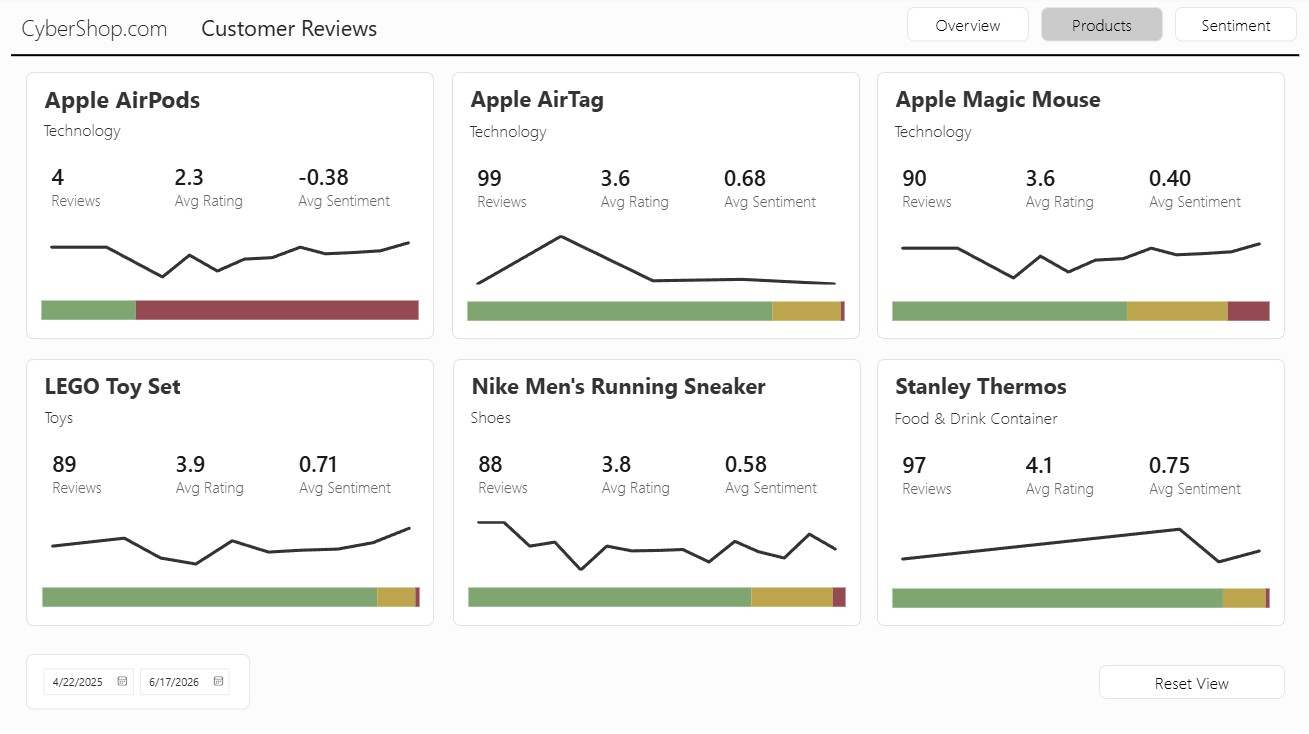

This screenshot's page, from the dashboard's own definition file:
{"tool":"powerbi","page":{"name":"Products","canvas":[1280,720],"ordinal":1},"visuals":[{"type":"shape","box":[13.6,46.2,1253.2,21.8],"z":0},{"type":"textbox","box":[18.5,10.7,485.3,46.7],"z":1000},{"type":"shape","title":"ttt","box":[1145.3,10.9,118.8,33.6],"z":2000},{"type":"shape","title":"ttt","box":[1015.6,10.9,118.8,33.6],"z":3000},{"type":"shape","title":"ttt","box":[885,10.9,118.8,33.6],"z":4000},{"type":"shape","title":"ttt","box":[855.9,73.9,396.8,259.7],"z":5000},{"type":"shape","title":"ttt","box":[442.6,73.9,396.8,259.7],"z":6000},{"type":"shape","title":"ttt","box":[28.2,73.9,396.8,259.7],"z":7000},{"type":"multiRowCard","title":"Average Rating","fields":{"Values":["reviews_analyzed.category"]},"box":[39.9,113.8,183.8,36],"z":8000},{"type":"multiRowCard","title":"Average Rating","fields":{"Values":["CountNonNull(reviews_analyzed.id)","Avg(reviews_analyzed.rating)","Avg(reviews_analyzed.sentiment)"]},"box":[47.7,155.6,385.2,68.1],"z":9000},{"type":"shape","title":"ttt","box":[28.2,353.1,396.8,259.7],"z":10000},{"type":"shape","title":"ttt","box":[443.5,353.1,396.8,259.7],"z":11000},{"type":"shape","title":"ttt","box":[855.9,353.1,396.8,259.7],"z":12000},{"type":"hundredPercentStackedBarChart","title":"Overall Sentiment Mix","fields":{"Series":["reviews_analyzed.sentiment_category"],"Y":["CountNonNull(reviews_analyzed.id)"]},"box":[28.2,269.4,396.8,64.2],"z":13000},{"type":"lineChart","title":"Overall Sentiment Mix","fields":{"Y":["Avg(reviews_analyzed.rating)"],"Category":["reviews_analyzed.date.Variation.Date Hierarchy.Year","reviews_analyzed.date.Variation.Date Hierarchy.Month"]},"box":[28.2,223.7,396.8,56.4],"z":14000},{"type":"multiRowCard","title":"Average Rating","fields":{"Values":["reviews_analyzed.category"]},"box":[454.5,115,183.8,36],"z":15000},{"type":"multiRowCard","title":"Average Rating","fields":{"Values":["CountNonNull(reviews_analyzed.id)","Avg(reviews_analyzed.rating)","Avg(reviews_analyzed.sentiment)"]},"box":[462.3,156.9,385.2,68.1],"z":16000},{"type":"hundredPercentStackedBarChart","title":"Overall Sentiment Mix","fields":{"Series":["reviews_analyzed.sentiment_category"],"Y":["CountNonNull(reviews_analyzed.id)"]},"box":[442.8,270.7,396.8,64.2],"z":17000},{"type":"lineChart","title":"Overall Sentiment Mix","fields":{"Y":["Avg(reviews_analyzed.rating)"],"Category":["reviews_analyzed.date.Variation.Date Hierarchy.Year","reviews_analyzed.date.Variation.Date Hierarchy.Month"]},"box":[442.8,225,396.8,56.4],"z":18000},{"type":"multiRowCard","title":"Average Rating","fields":{"Values":["reviews_analyzed.category"]},"box":[867.9,115,183.8,36],"z":19000},{"type":"multiRowCard","title":"Average Rating","fields":{"Values":["CountNonNull(reviews_analyzed.id)","Avg(reviews_analyzed.rating)","Avg(reviews_analyzed.sentiment)"]},"box":[875.7,156.9,385.2,68.1],"z":20000},{"type":"hundredPercentStackedBarChart","title":"Overall Sentiment Mix","fields":{"Series":["reviews_analyzed.sentiment_category"],"Y":["CountNonNull(reviews_analyzed.id)"]},"box":[856.2,270.7,396.8,64.2],"z":21000},{"type":"lineChart","title":"Overall Sentiment Mix","fields":{"Y":["Avg(reviews_analyzed.rating)"],"Category":["reviews_analyzed.date.Variation.Date Hierarchy.Year","reviews_analyzed.date.Variation.Date Hierarchy.Month"]},"box":[856.2,225,396.8,56.4],"z":22000},{"type":"multiRowCard","title":"Average Rating","fields":{"Values":["reviews_analyzed.category"]},"box":[41.1,393.2,183.8,36],"z":23000},{"type":"multiRowCard","title":"Average Rating","fields":{"Values":["CountNonNull(reviews_analyzed.id)","Avg(reviews_analyzed.rating)","Avg(reviews_analyzed.sentiment)"]},"box":[48.9,435.1,385.2,68.1],"z":24000},{"type":"hundredPercentStackedBarChart","title":"Overall Sentiment Mix","fields":{"Series":["reviews_analyzed.sentiment_category"],"Y":["CountNonNull(reviews_analyzed.id)"]},"box":[29.5,548.9,396.8,64.2],"z":25000},{"type":"lineChart","title":"Overall Sentiment Mix","fields":{"Y":["Avg(reviews_analyzed.rating)"],"Category":["reviews_analyzed.date.Variation.Date Hierarchy.Year","reviews_analyzed.date.Variation.Date Hierarchy.Month"]},"box":[29.5,503.2,396.8,56.4],"z":26000},{"type":"multiRowCard","title":"Average Rating","fields":{"Values":["reviews_analyzed.category"]},"box":[455.5,393.2,183.8,36],"z":27000},{"type":"multiRowCard","title":"Average Rating","fields":{"Values":["CountNonNull(reviews_analyzed.id)","Avg(reviews_analyzed.rating)","Avg(reviews_analyzed.sentiment)"]},"box":[463.3,435.1,385.2,68.1],"z":28000},{"type":"hundredPercentStackedBarChart","title":"Overall Sentiment Mix","fields":{"Series":["reviews_analyzed.sentiment_category"],"Y":["CountNonNull(reviews_analyzed.id)"]},"box":[443.8,548.9,396.8,64.2],"z":29000},{"type":"lineChart","title":"Overall Sentiment Mix","fields":{"Y":["Avg(reviews_analyzed.rating)"],"Category":["reviews_analyzed.date.Variation.Date Hierarchy.Year","reviews_analyzed.date.Variation.Date Hierarchy.Month"]},"box":[443.8,503.2,396.8,56.4],"z":30000},{"type":"multiRowCard","title":"Average Rating","fields":{"Values":["reviews_analyzed.category"]},"box":[867.9,394.2,183.8,36],"z":31000},{"type":"multiRowCard","title":"Average Rating","fields":{"Values":["CountNonNull(reviews_analyzed.id)","Avg(reviews_analyzed.rating)","Avg(reviews_analyzed.sentiment)"]},"box":[875.7,436,385.2,68.1],"z":32000},{"type":"hundredPercentStackedBarChart","title":"Overall Sentiment Mix","fields":{"Series":["reviews_analyzed.sentiment_category"],"Y":["CountNonNull(reviews_analyzed.id)"]},"box":[856.2,549.8,396.8,64.2],"z":33000},{"type":"lineChart","title":"Overall Sentiment Mix","fields":{"Y":["Avg(reviews_analyzed.rating)"],"Category":["reviews_analyzed.date.Variation.Date Hierarchy.Year","reviews_analyzed.date.Variation.Date Hierarchy.Month"]},"box":[856.2,504.1,396.8,56.4],"z":34000},{"type":"slicer","fields":{"Values":["reviews_analyzed.date"]},"box":[28.1,640.2,217.6,53.5],"z":35000},{"type":"shape","title":"ttt","box":[1071.9,650.7,180.9,33.1],"z":36000}]}

Visuals, with their boxes in screenshot pixels (x1, y1, x2, y2), scaled from the page's 1280x720 canvas onto the 1309x734 screenshot:
shape: (left=14, top=47, right=1296, bottom=69)
textbox: (left=19, top=11, right=515, bottom=59)
"ttt" shape: (left=1171, top=11, right=1293, bottom=45)
"ttt" shape: (left=1039, top=11, right=1160, bottom=45)
"ttt" shape: (left=905, top=11, right=1027, bottom=45)
"ttt" shape: (left=875, top=75, right=1281, bottom=340)
"ttt" shape: (left=453, top=75, right=858, bottom=340)
"ttt" shape: (left=29, top=75, right=435, bottom=340)
"Average Rating" multiRowCard: (left=41, top=116, right=229, bottom=153)
"Average Rating" multiRowCard: (left=49, top=159, right=443, bottom=228)
"ttt" shape: (left=29, top=360, right=435, bottom=625)
"ttt" shape: (left=454, top=360, right=859, bottom=625)
"ttt" shape: (left=875, top=360, right=1281, bottom=625)
"Overall Sentiment Mix" hundredPercentStackedBarChart: (left=29, top=275, right=435, bottom=340)
"Overall Sentiment Mix" lineChart: (left=29, top=228, right=435, bottom=286)
"Average Rating" multiRowCard: (left=465, top=117, right=653, bottom=154)
"Average Rating" multiRowCard: (left=473, top=160, right=867, bottom=229)
"Overall Sentiment Mix" hundredPercentStackedBarChart: (left=453, top=276, right=859, bottom=341)
"Overall Sentiment Mix" lineChart: (left=453, top=229, right=859, bottom=287)
"Average Rating" multiRowCard: (left=888, top=117, right=1076, bottom=154)
"Average Rating" multiRowCard: (left=896, top=160, right=1289, bottom=229)
"Overall Sentiment Mix" hundredPercentStackedBarChart: (left=876, top=276, right=1281, bottom=341)
"Overall Sentiment Mix" lineChart: (left=876, top=229, right=1281, bottom=287)
"Average Rating" multiRowCard: (left=42, top=401, right=230, bottom=438)
"Average Rating" multiRowCard: (left=50, top=444, right=444, bottom=513)
"Overall Sentiment Mix" hundredPercentStackedBarChart: (left=30, top=560, right=436, bottom=625)
"Overall Sentiment Mix" lineChart: (left=30, top=513, right=436, bottom=570)
"Average Rating" multiRowCard: (left=466, top=401, right=654, bottom=438)
"Average Rating" multiRowCard: (left=474, top=444, right=868, bottom=513)
"Overall Sentiment Mix" hundredPercentStackedBarChart: (left=454, top=560, right=860, bottom=625)
"Overall Sentiment Mix" lineChart: (left=454, top=513, right=860, bottom=570)
"Average Rating" multiRowCard: (left=888, top=402, right=1076, bottom=439)
"Average Rating" multiRowCard: (left=896, top=444, right=1289, bottom=514)
"Overall Sentiment Mix" hundredPercentStackedBarChart: (left=876, top=560, right=1281, bottom=626)
"Overall Sentiment Mix" lineChart: (left=876, top=514, right=1281, bottom=571)
slicer - reviews_analyzed.date: (left=29, top=653, right=251, bottom=707)
"ttt" shape: (left=1096, top=663, right=1281, bottom=697)
